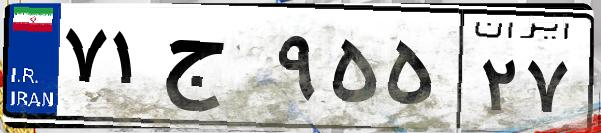1: (110, 28, 158, 98)
2: (475, 38, 525, 113)
5: (385, 28, 445, 110), (330, 28, 385, 110)
7: (57, 26, 110, 100), (525, 38, 570, 115)
9: (270, 28, 330, 110)
ج: (158, 20, 270, 120)
